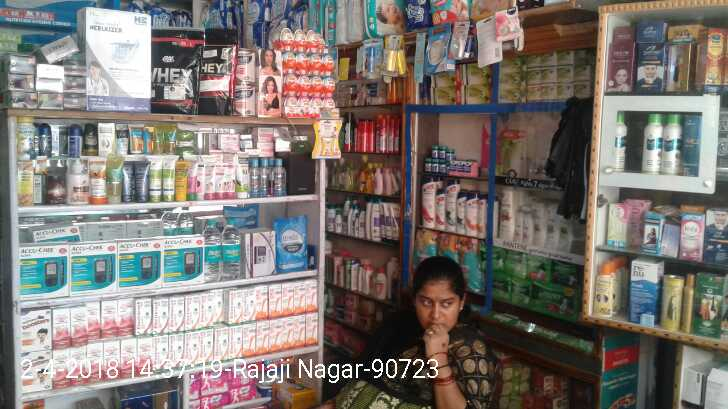vicks: (422, 143, 478, 179)
